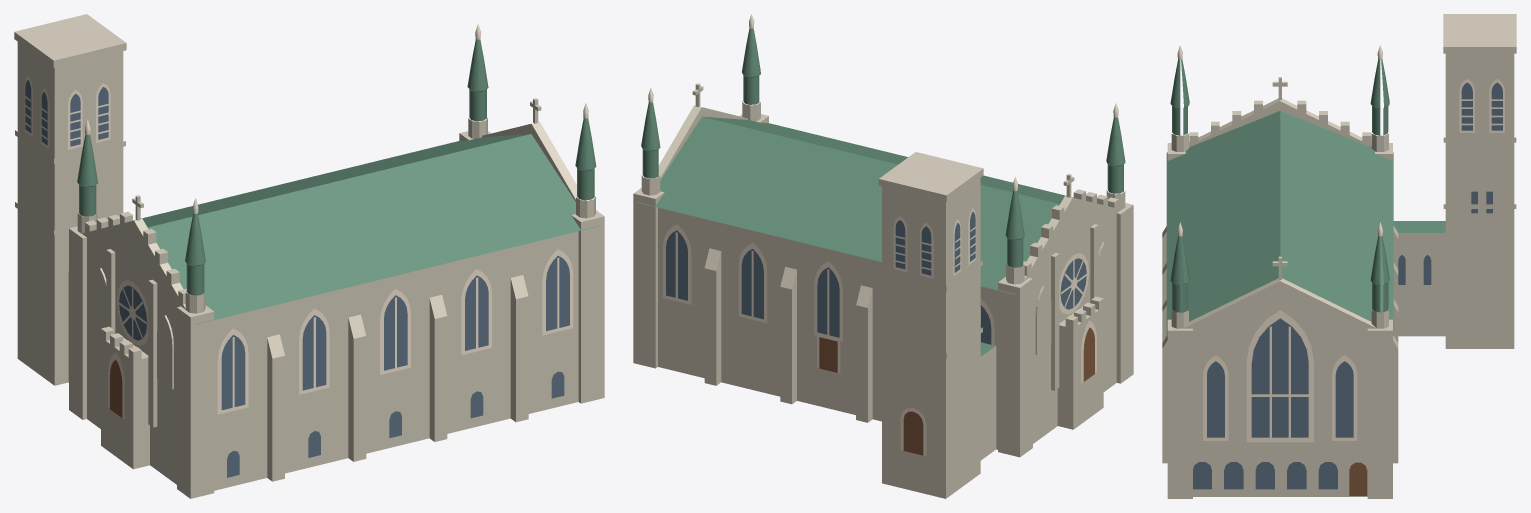
Rendered from det-mariners-church.glb.
The picture shows the model from 3 angles, left to right: view 1: azimuth 30°, elevation 25°; view 2: azimuth 150°, elevation 25°; view 3: azimuth 270°, elevation 25°; orthographic projection. The views are drawn at different scales.
Visible parts, largest first — view 1: Mariners' Church; view 2: Mariners' Church; view 3: Mariners' Church.
Part boxes in pixels (<box>): Mariners' Church: <box>14,14,604,498</box>; Mariners' Church: <box>633,14,1133,498</box>; Mariners' Church: <box>1162,14,1516,498</box>.
Bounding box in the file's own units: 30.57 × 22.3 × 23.65.
